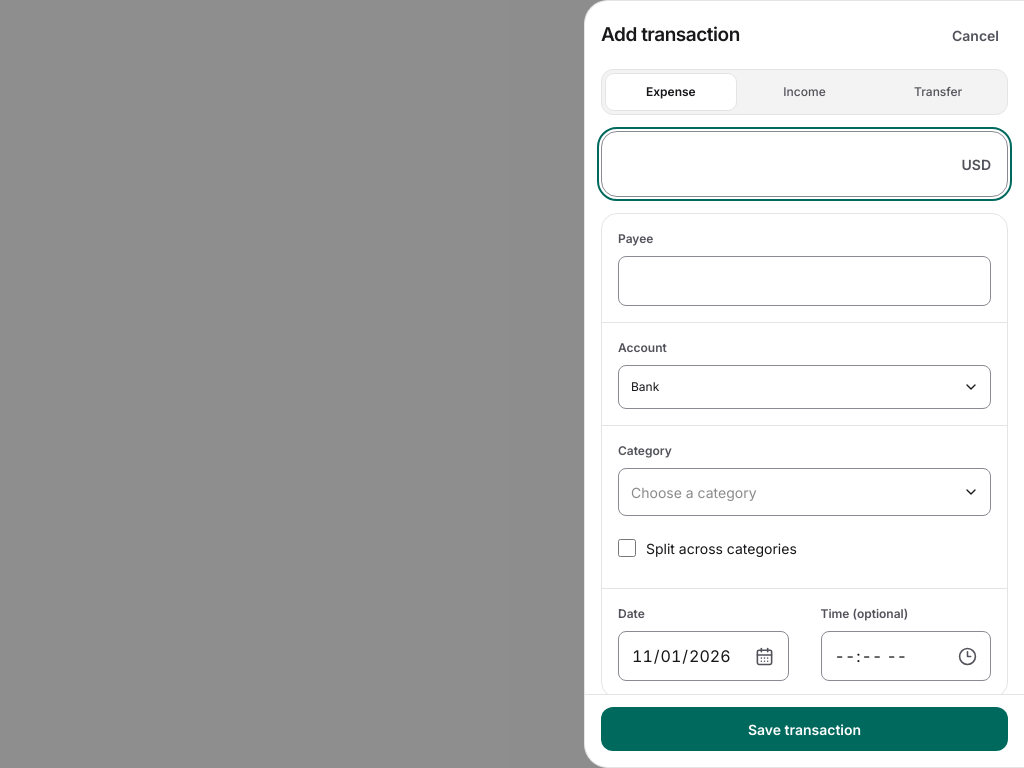
Test case: offers the same creation on a split line
Click the checkbox labelled "Split across categories" at (627, 548), box [618,524,636,572]
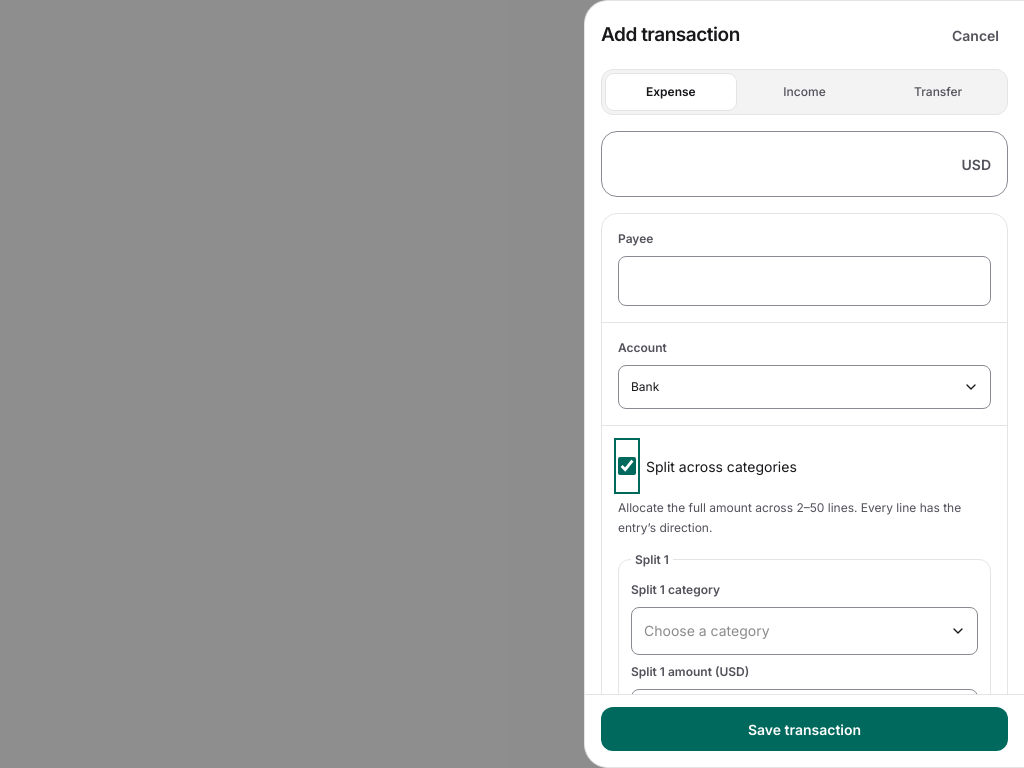
Type "Coffee" into the dropdown labelled "Split 1 category" at (804, 631), box [631,607,978,655]
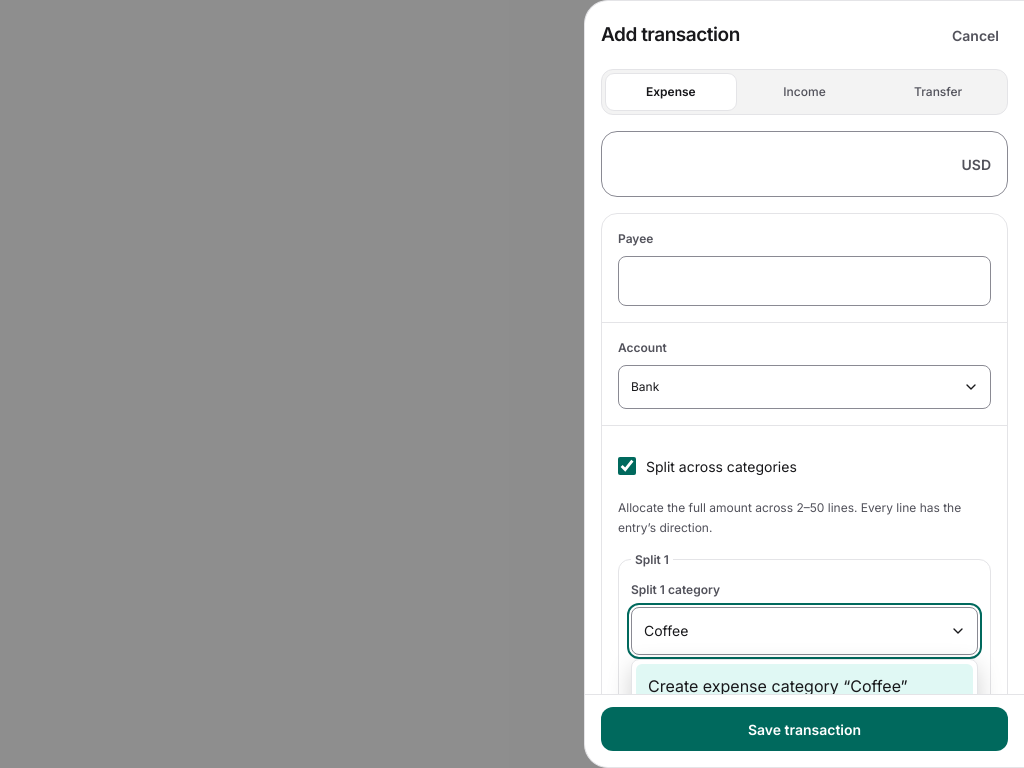
Expected: the option "Create expense category “Coffee”" is shown, [636,664,973,694]
